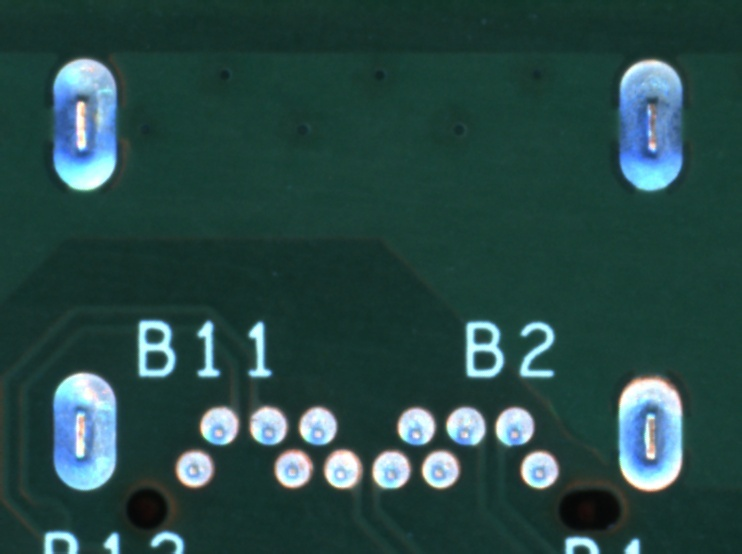SOLDER: (246, 403, 289, 448), (394, 402, 437, 447), (444, 403, 487, 448), (172, 446, 215, 491), (517, 447, 560, 492), (197, 403, 240, 447), (321, 446, 363, 491), (370, 447, 412, 492), (420, 447, 462, 492), (297, 404, 339, 448), (494, 404, 536, 448), (272, 446, 314, 490)
SOLDER2: (606, 356, 694, 511), (606, 48, 694, 203), (40, 47, 127, 202), (38, 359, 125, 514)
